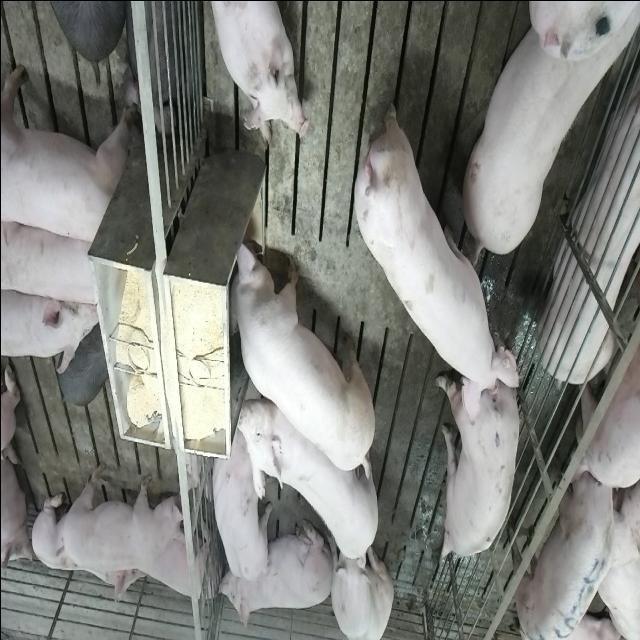Feeding: (219, 234, 371, 477)
Sitting: (328, 532, 392, 640)
Standing: (348, 90, 514, 400), (458, 8, 634, 263), (239, 382, 384, 562), (1, 56, 134, 248), (516, 435, 619, 640), (434, 369, 520, 568), (58, 463, 188, 574), (3, 213, 106, 310), (212, 432, 272, 580), (0, 285, 101, 372)
Sternal_lying: (204, 0, 305, 142), (32, 486, 142, 610), (218, 516, 330, 628), (140, 522, 212, 605)
